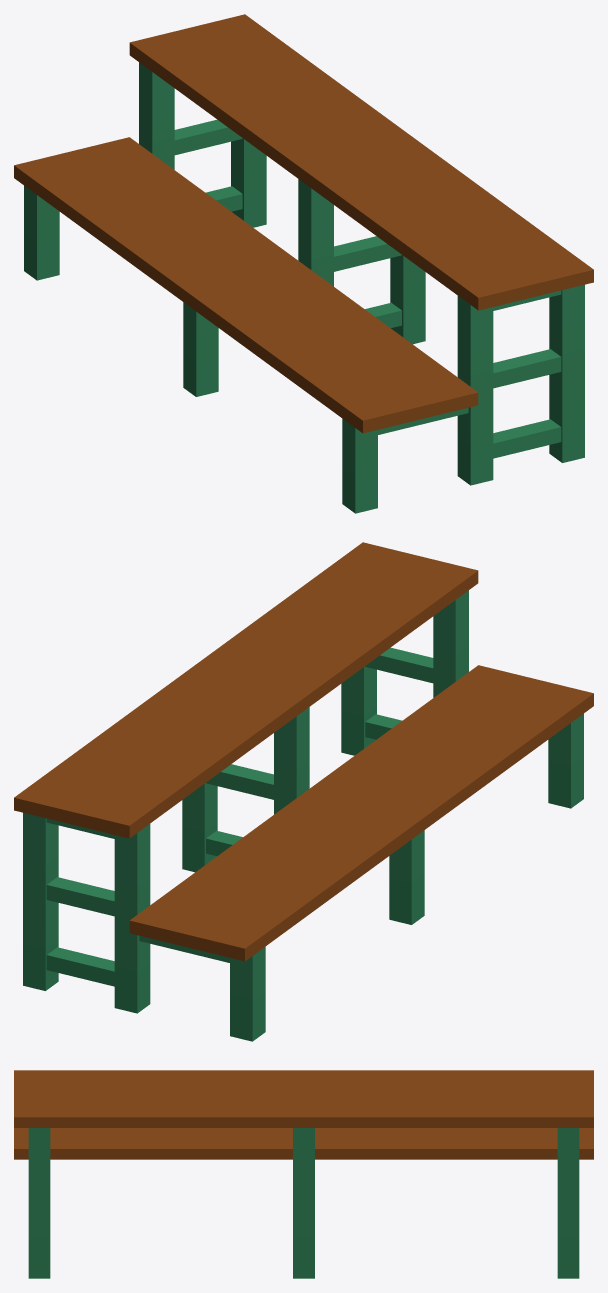
The model's file is Bench_1_C_5.fbx.
3 renders of one model, top to bottom at view 1: azimuth 30°, elevation 25°; view 2: azimuth 150°, elevation 25°; view 3: azimuth 270°, elevation 25°, orthographic. The views are drawn at different scales.
Parts seen in each view (by area): view 1: Bench_1_C_5; view 2: Bench_1_C_5; view 3: Bench_1_C_5.
Part boxes in pixels (<box>): Bench_1_C_5: <box>14,14,593,513</box>; Bench_1_C_5: <box>14,542,593,1041</box>; Bench_1_C_5: <box>14,1070,593,1278</box>.
Size of the model in its own units: 81.37 by 65.4 by 213.
